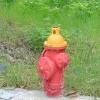a fire hydrant: (38, 28, 71, 95)
